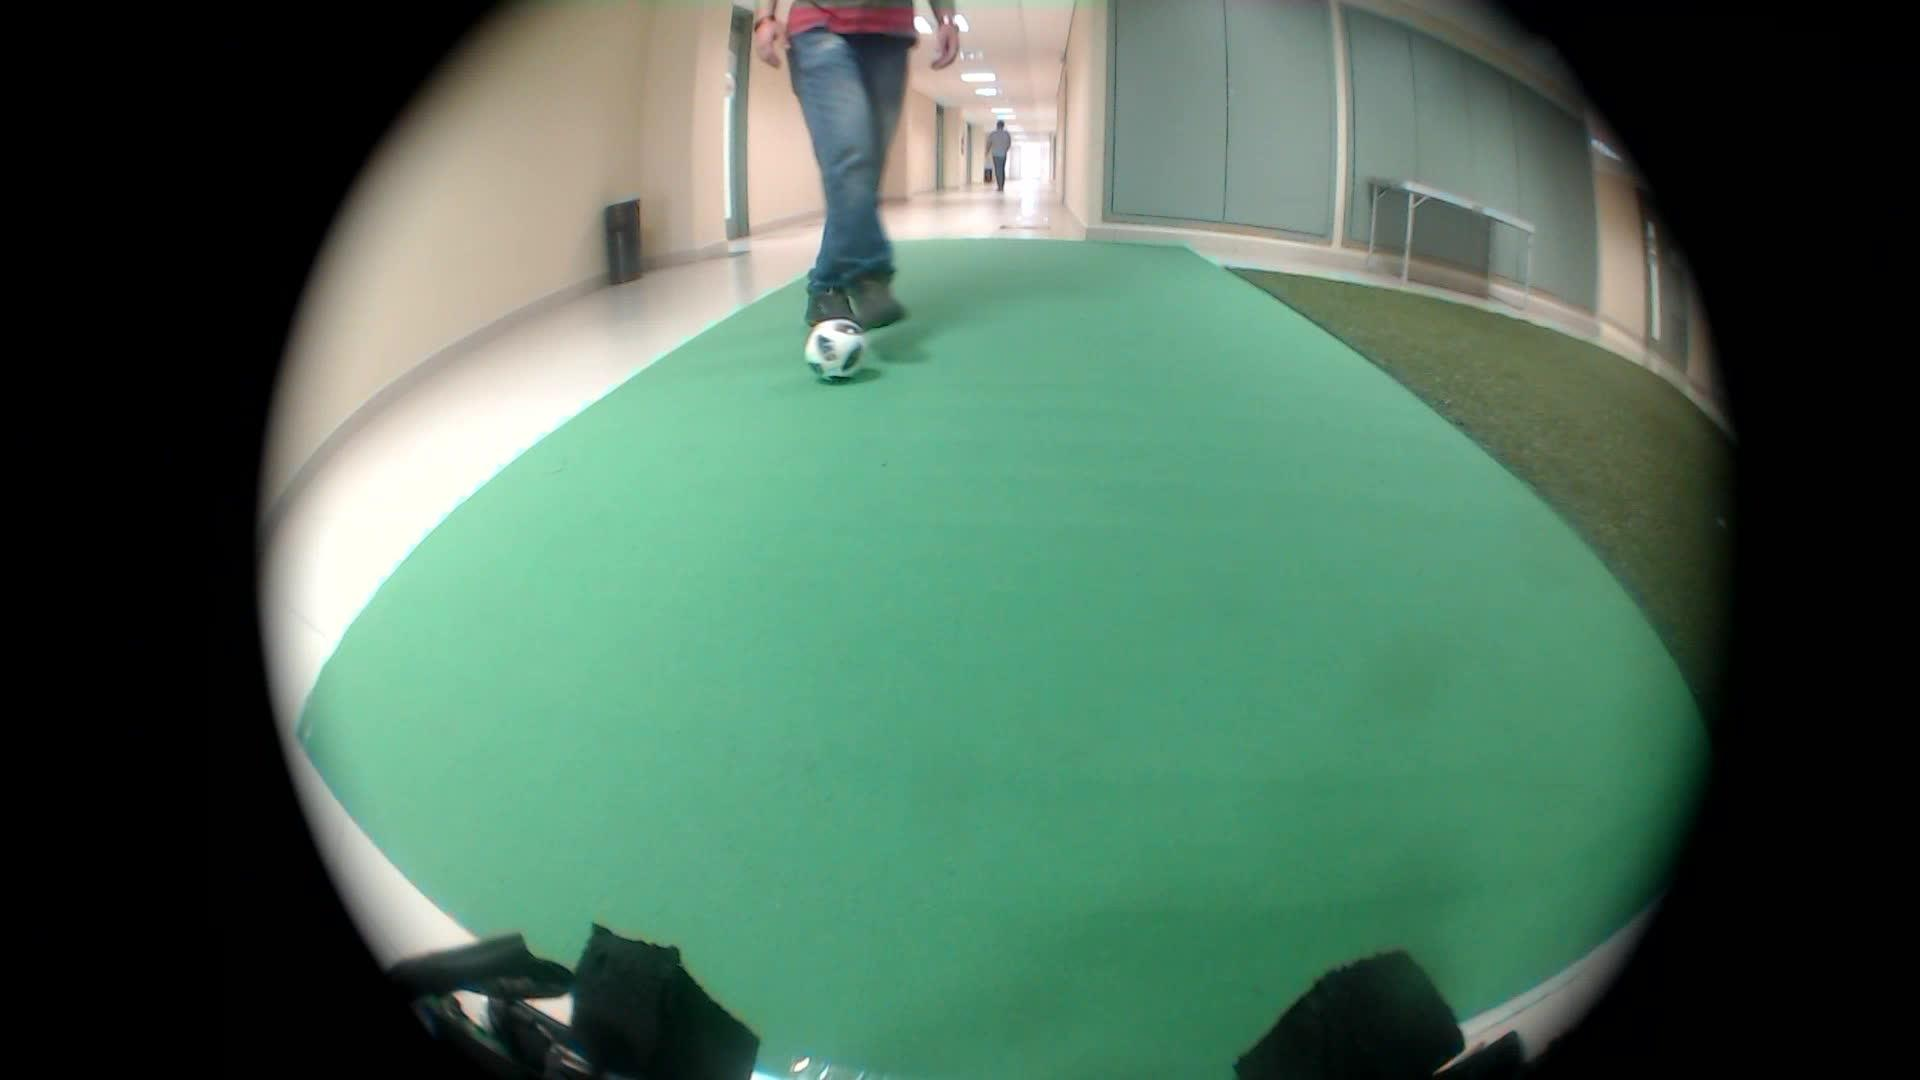ball: (793, 309, 872, 384)
